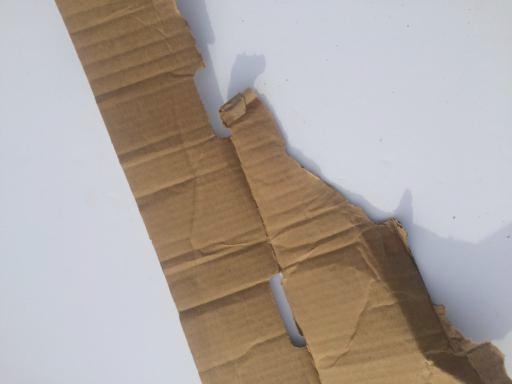cardboard: (61, 6, 504, 382)
